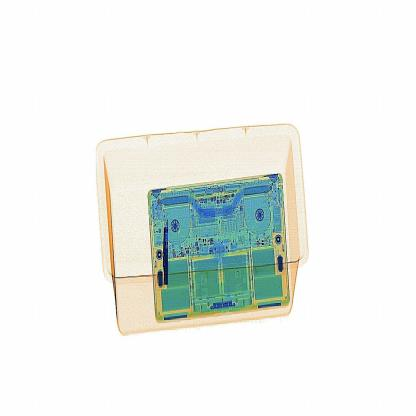pliers: (160, 214, 180, 294)
